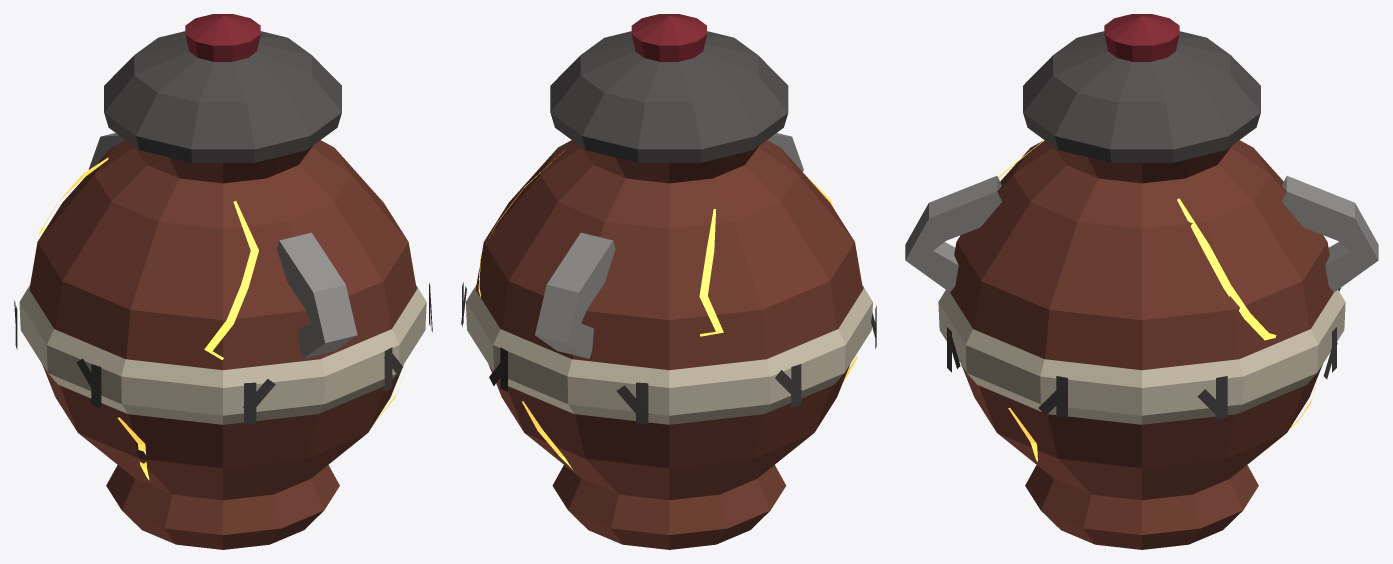
Rendered from urn.glb.
3 views of the same model, side by side, from view 1: azimuth 30°, elevation 25°; view 2: azimuth 150°, elevation 25°; view 3: azimuth 270°, elevation 25° (orthographic).
Parts seen in each view (by area): view 1: urn_body, lid, rune_band, handle_r, runes, glaze_cracks, handle_l; view 2: urn_body, lid, rune_band, handle_l, runes, glaze_cracks, handle_r; view 3: urn_body, lid, rune_band, handle_l, handle_r, runes, glaze_cracks.
Part boxes in pixels (x1,y1,x2,y2): urn_body: (29,140,416,549); lid: (104,14,341,162); rune_band: (19,285,426,424); handle_r: (277,232,357,358); runes: (14,283,432,424); glaze_cracks: (38,157,404,480); handle_l: (88,133,124,169); urn_body: (475,140,862,549); lid: (550,14,788,162); rune_band: (465,285,872,424); handle_l: (535,232,615,358); runes: (461,282,876,424); glaze_cracks: (478,149,857,470); handle_r: (767,133,803,171); urn_body: (950,140,1333,549); lid: (1023,14,1260,162); rune_band: (938,290,1345,424); handle_l: (1282,176,1378,292); handle_r: (905,176,1001,292); runes: (946,288,1340,419); glaze_cracks: (998,140,1317,461).
Size of what is drawn, in the model's own units: 0.5223 by 0.7 by 0.6071.
